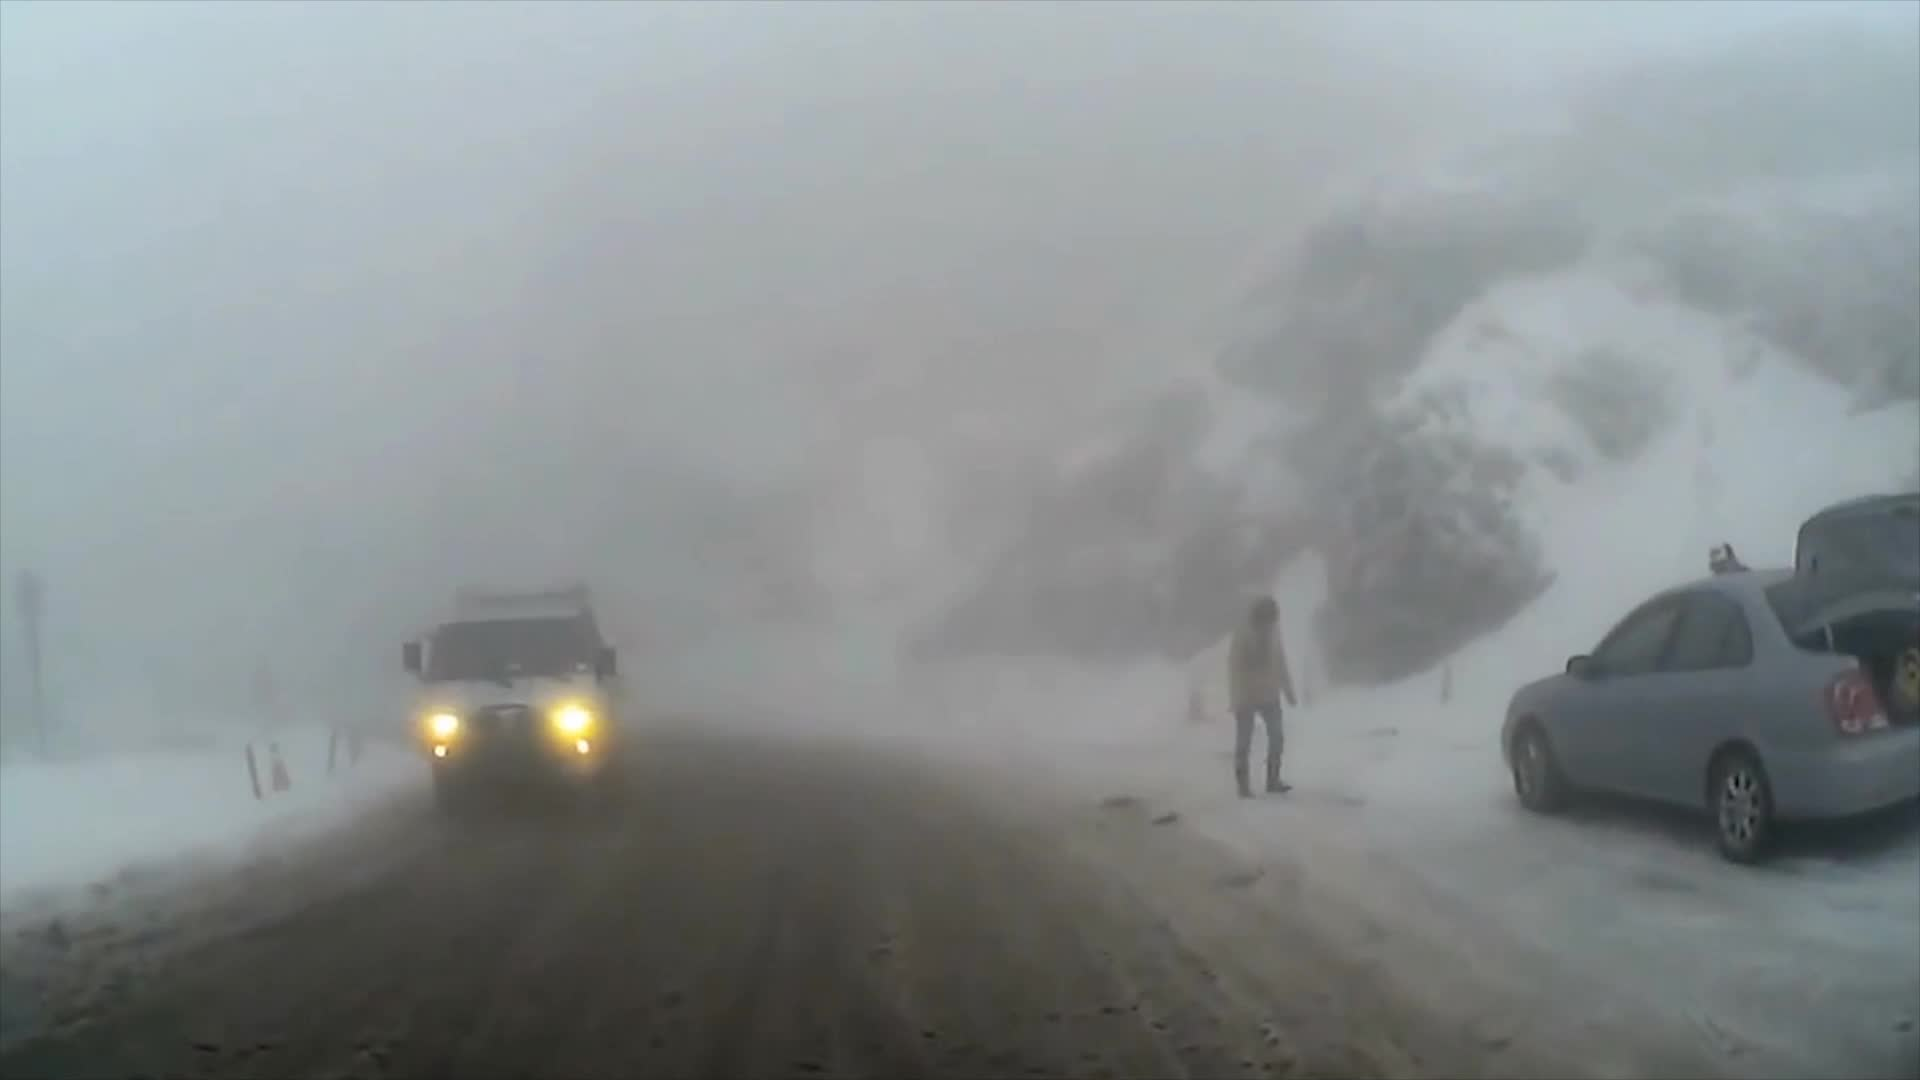pedestrian: (1225, 588, 1298, 798)
vehicle: (1497, 487, 1920, 869), (399, 587, 623, 827)
